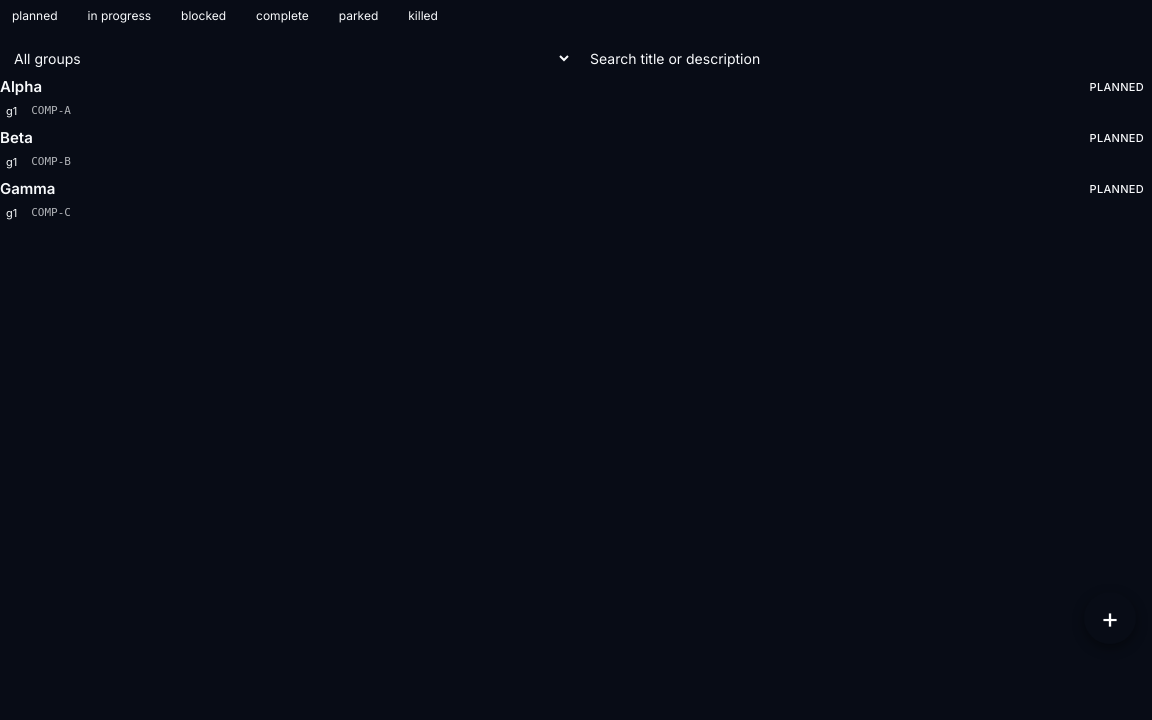
Test: S4: Connection direction arrows › renders → for outgoing connection (fromId === item.id)
Click the button with test id "mobile-item-card-COMP-A": (21, 86) [0, 77, 1151, 120]
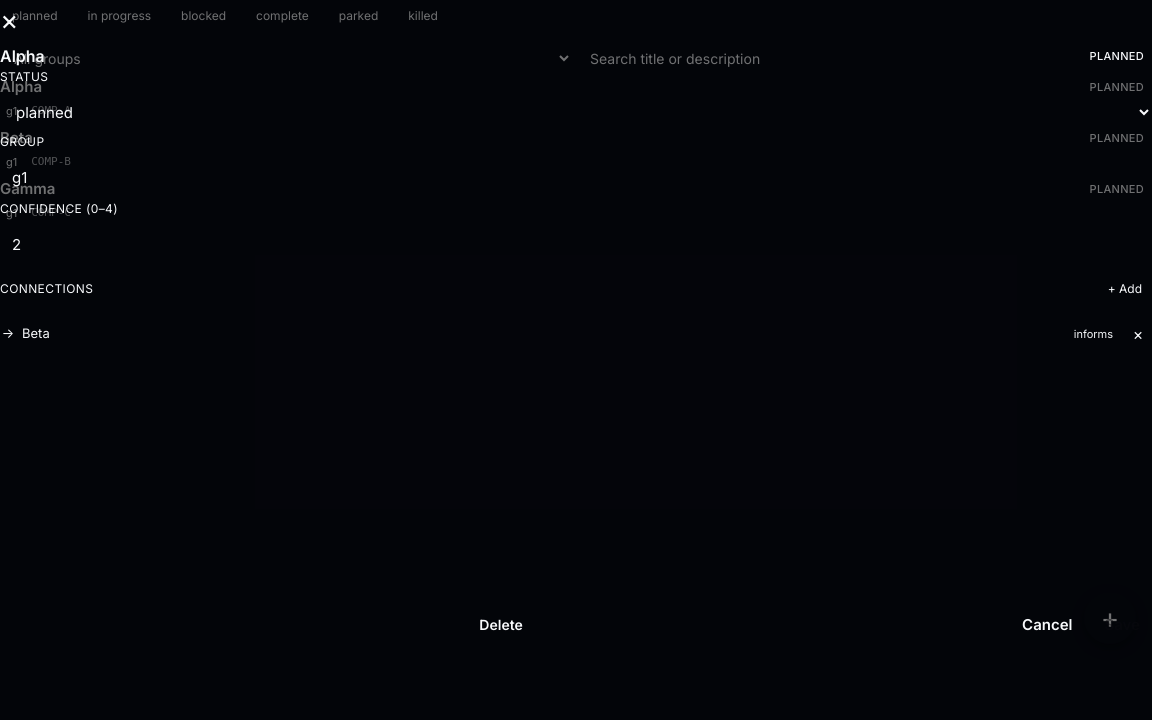
Expected: the button with test id "mobile-item-conn-remove-0" is shown, [1124, 320, 1151, 348]
Expected: the list item with test id "mobile-item-conn-remove-0" shows "→", [2, 325, 14, 341]
Expected: the list item with test id "mobile-item-conn-remove-0" shows "Beta", [22, 325, 50, 341]
